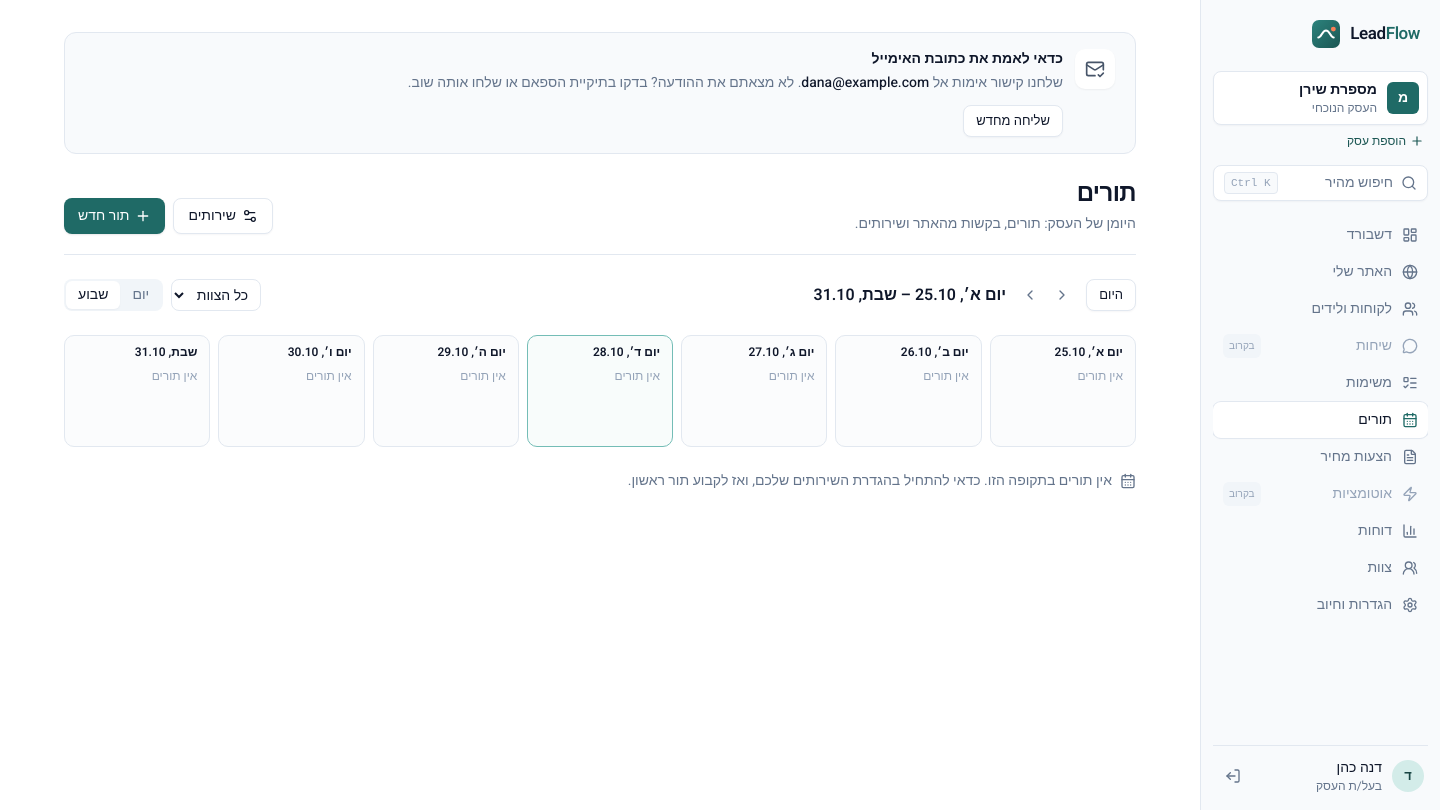
Test: appointments page › books a new customer with the service duration
Click the button "תור חדש" at [115, 216], box top-left (64, 198), bottom-right (166, 234)
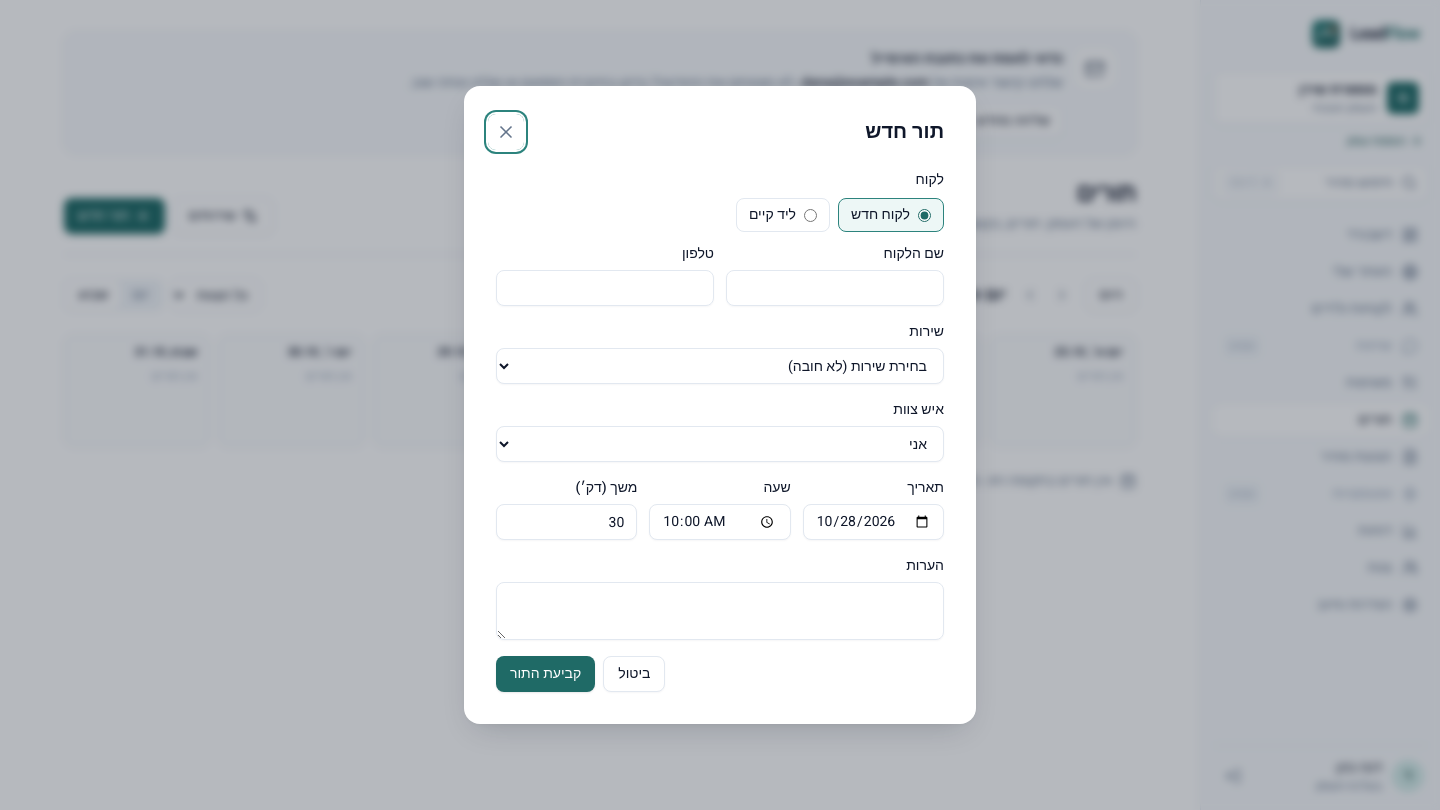
Type "רון לוי" into the field labelled "שם הלקוח" at [835, 288], box top-left (726, 270), bottom-right (944, 306)
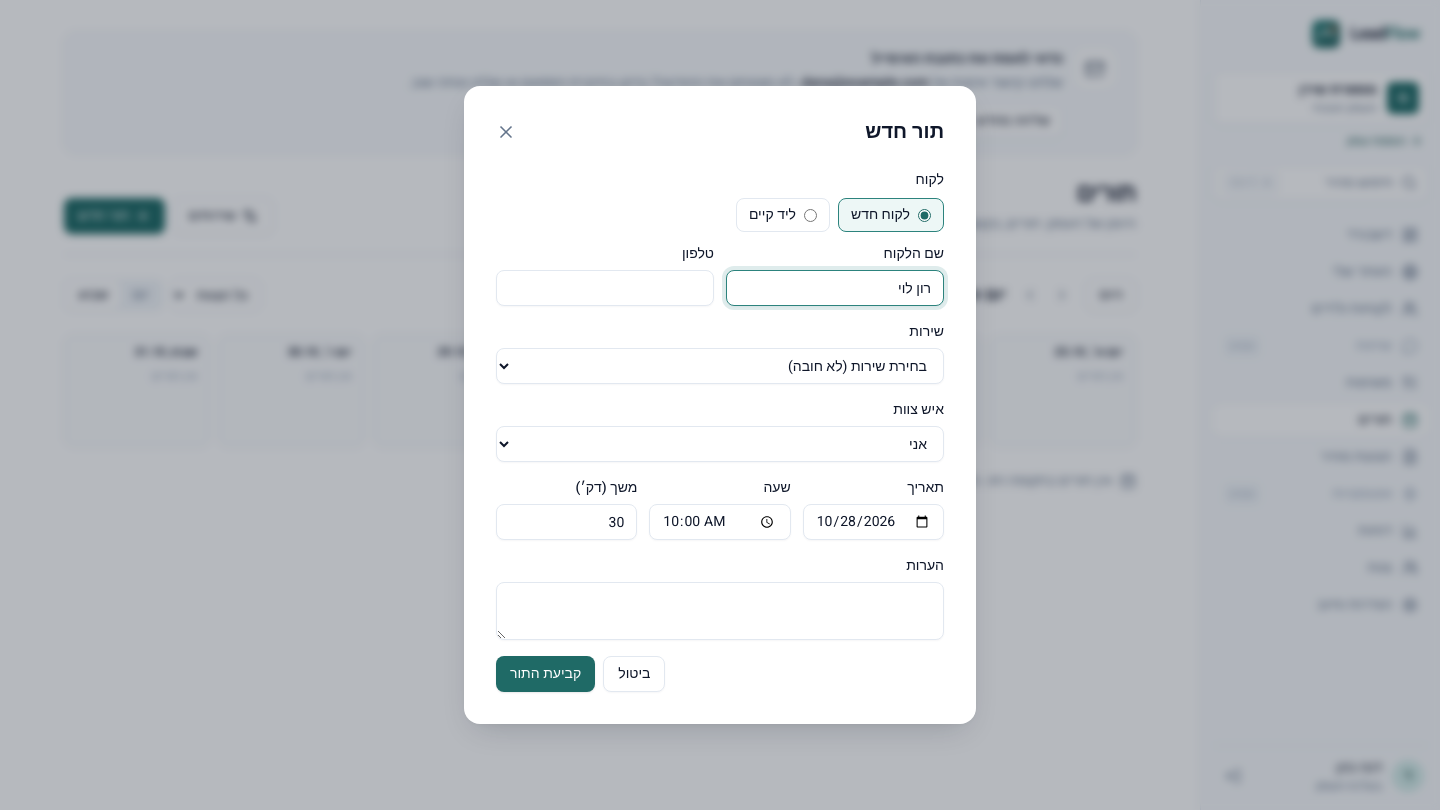
Type "052-1112233" into the field labelled "טלפון" at [605, 288], box top-left (496, 270), bottom-right (714, 306)
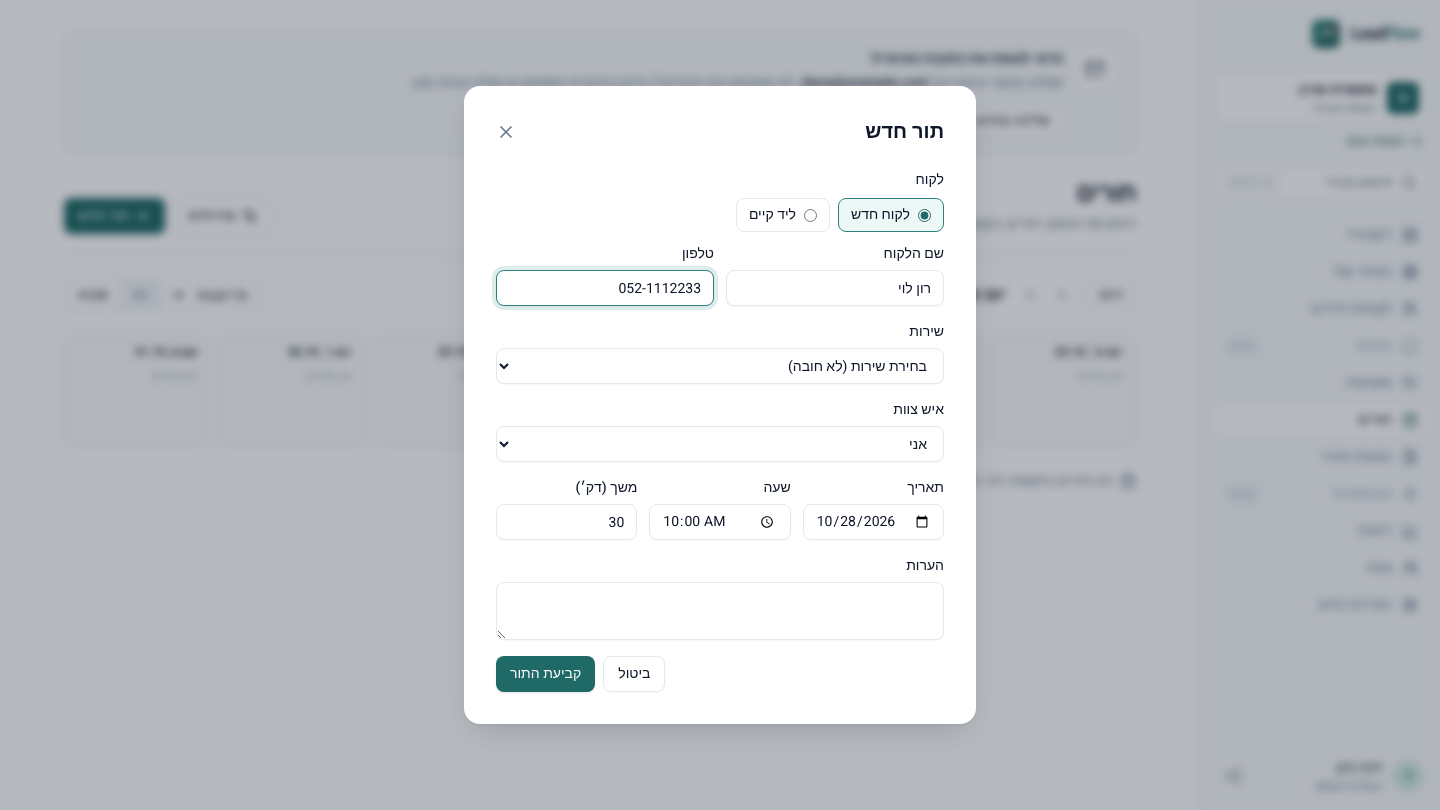
Select "תספורת · 45 דק׳" in the dropdown labelled "שירות" at [720, 366], box top-left (496, 348), bottom-right (944, 384)
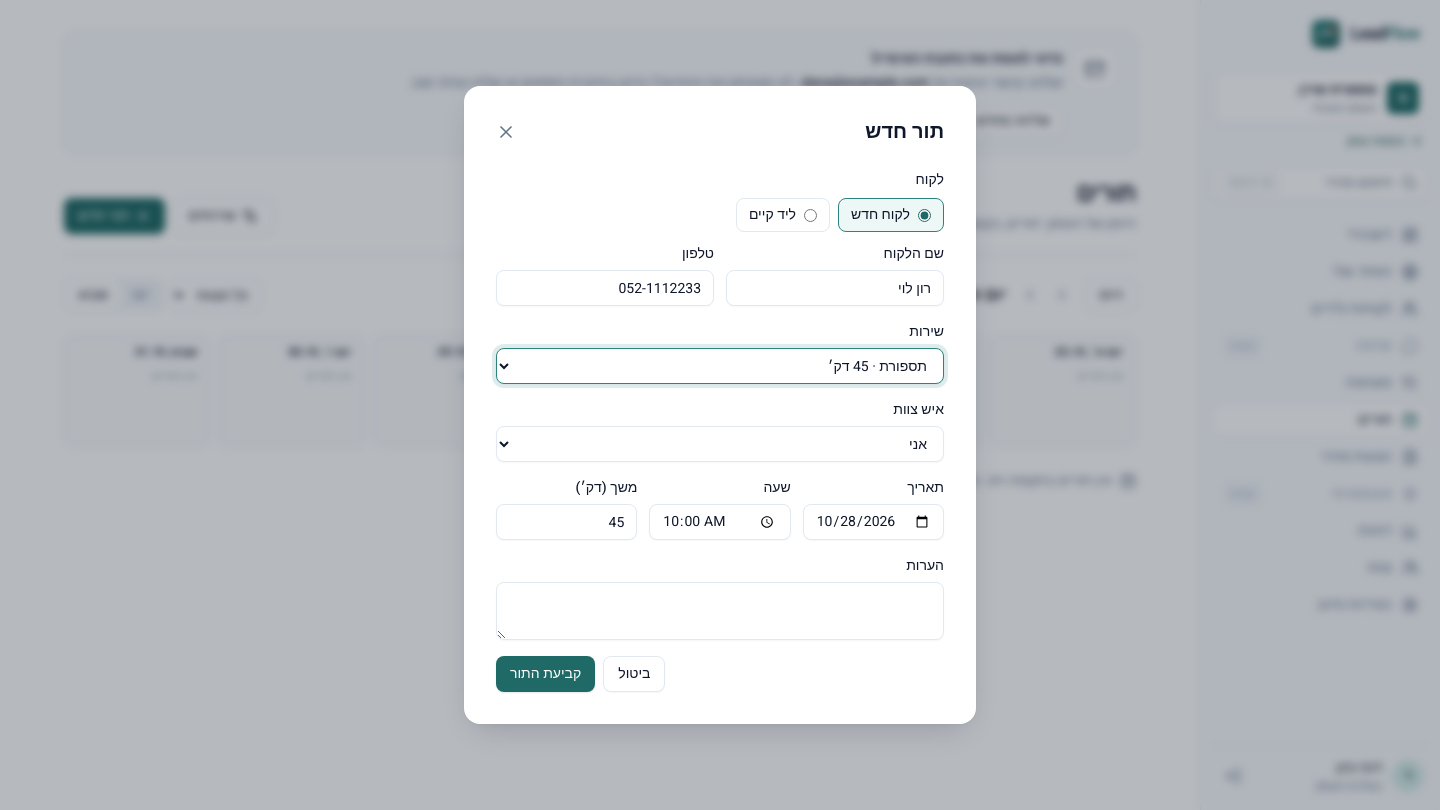
Result: the field labelled "משך (דק׳)" holds "45" at top-left (496, 504), bottom-right (637, 540)
Click the button "קביעת התור" at [546, 674], box top-left (496, 656), bottom-right (595, 692)
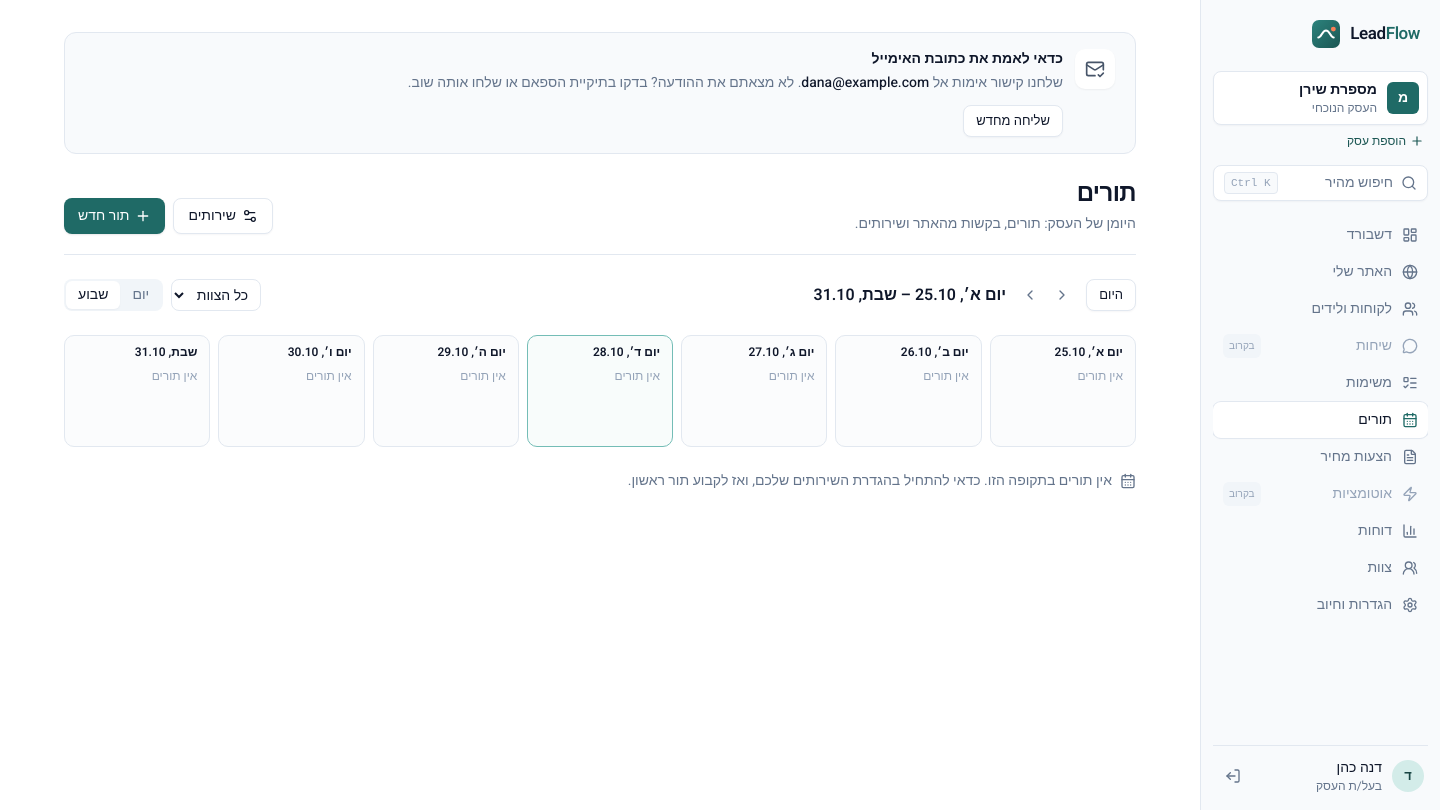
Result: the dialog is gone
